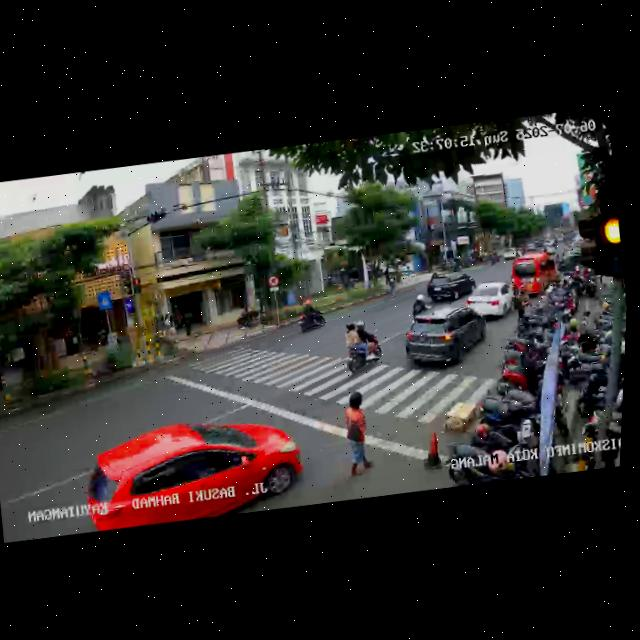car: (75, 408, 310, 535), (397, 303, 492, 375), (507, 249, 562, 299), (464, 279, 520, 324), (423, 268, 476, 308)
motorcycle: (339, 318, 388, 377), (294, 297, 328, 335), (408, 291, 434, 322)
person: (332, 390, 381, 480)
